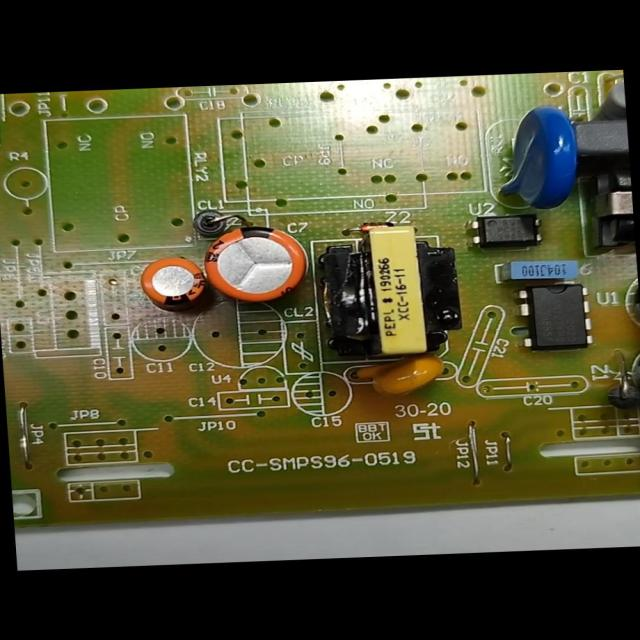Cap1: (195, 220, 316, 306)
Cap2: (133, 251, 216, 313)
MOSFET: (507, 276, 604, 356)
Mov: (488, 102, 582, 216)
Resistor: (584, 75, 626, 128)
Transformer: (309, 220, 469, 362), (580, 162, 635, 258)
